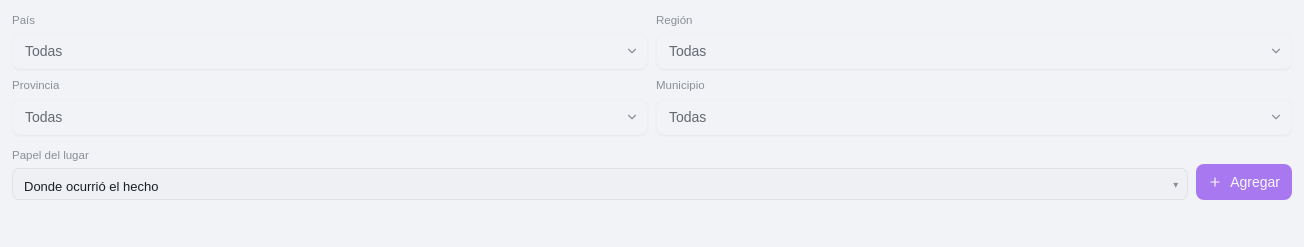
Test: LocalityPicker › elegir rellena los demás campos › limpiar un campo limpia los de abajo pero conserva los de arriba
In the dropdown labelled "Municipio": point(974, 116) [656, 98, 1292, 134], type "tamboril"
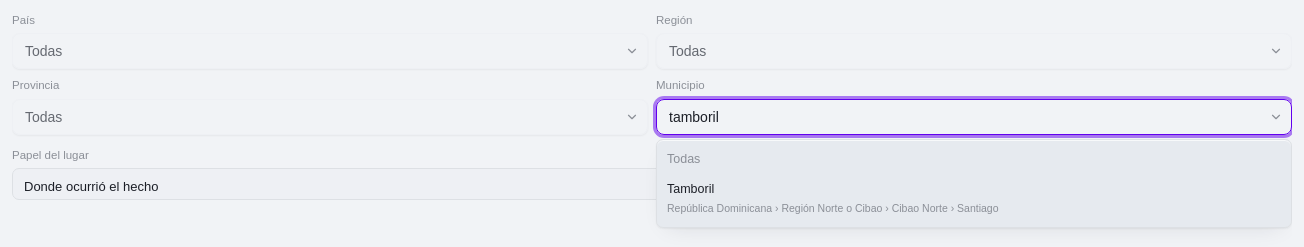
Click the option that starts with "Tamboril": point(691, 189) [657, 174, 1291, 223]
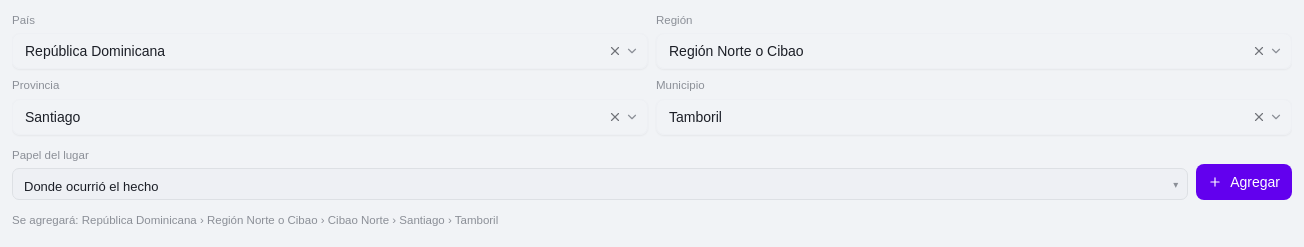
Click the button named "Limpiar Provincia": point(615, 116) [608, 110, 622, 124]
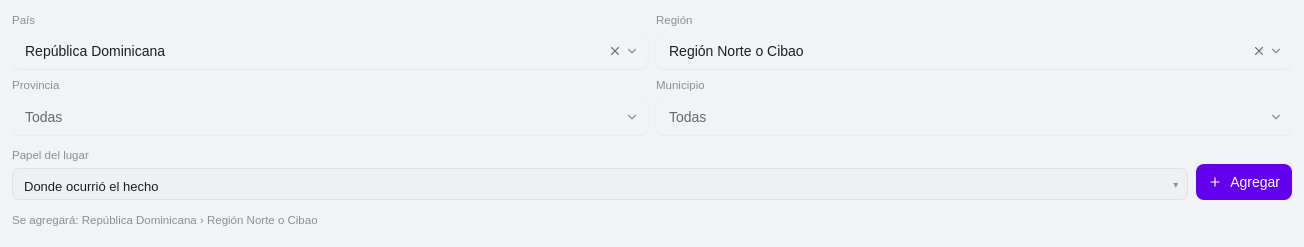
Expected: the dropdown labelled "Región" holds "Región Norte o Cibao", [656, 33, 1292, 69]
Expected: the dropdown labelled "Provincia" is empty, [12, 98, 648, 134]
Expected: the dropdown labelled "Municipio" is empty, [656, 98, 1292, 134]
